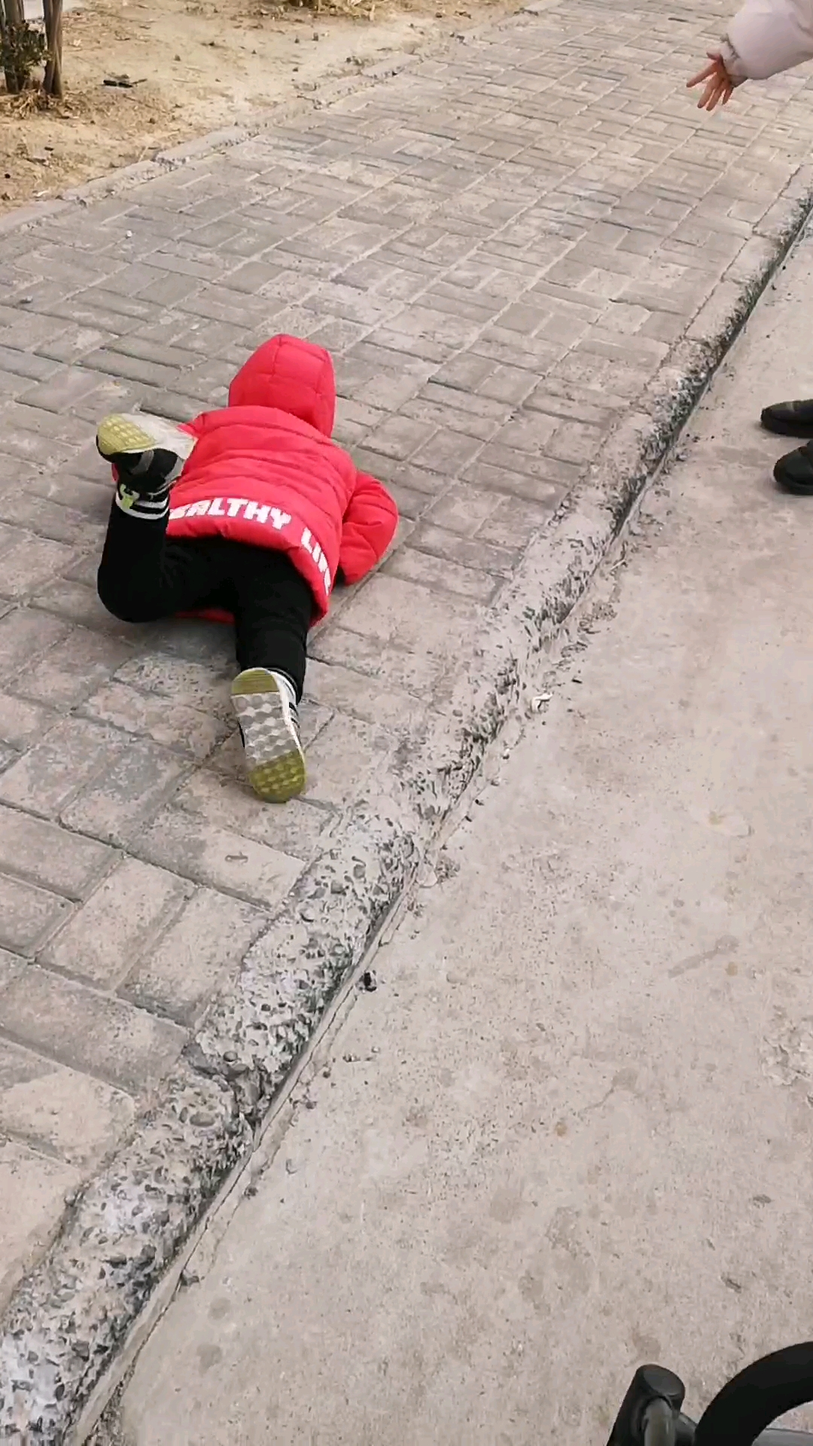down: (64, 317, 414, 830)
